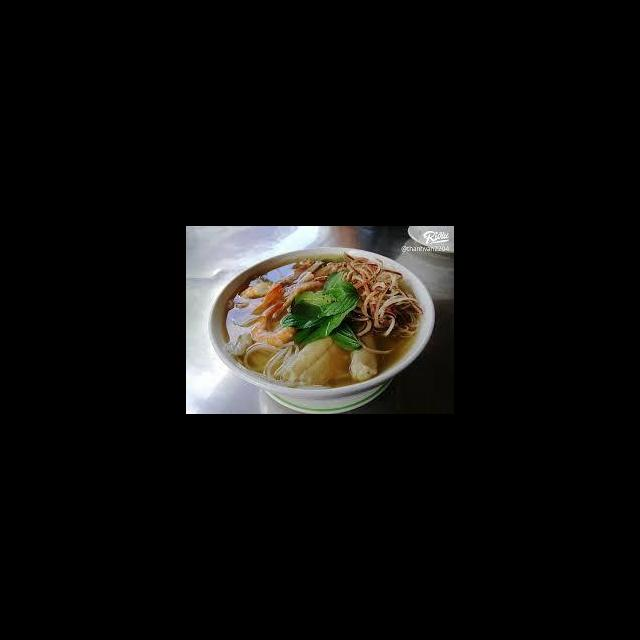bun: (239, 338, 302, 389)
bun ca: (213, 252, 427, 414)
ca: (275, 333, 350, 390), (345, 325, 380, 384)
tom: (246, 280, 300, 347)
